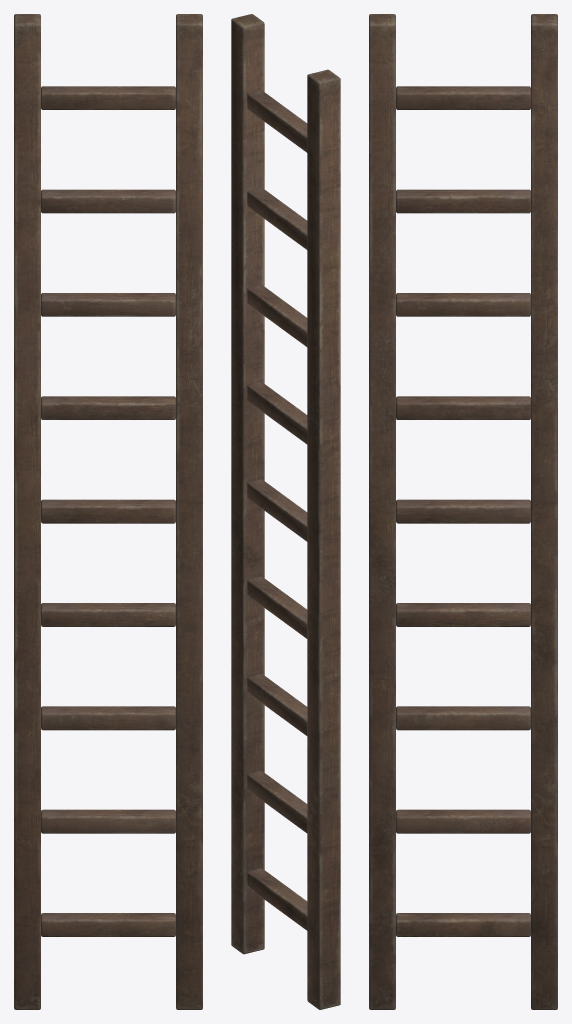
The model's file is ladder.glb.
3 views of the same model, side by side, from view 1: azimuth 90°, elevation 25°; view 2: azimuth 210°, elevation 25°; view 3: azimuth 270°, elevation 25° (orthographic). The views are drawn at different scales.
Parts seen in each view (by area): view 1: Wooden Ladder; view 2: Wooden Ladder; view 3: Wooden Ladder.
Part boxes in pixels (x1=…): Wooden Ladder: x1=14, y1=14, x2=202, y2=1009; Wooden Ladder: x1=231, y1=14, x2=340, y2=1009; Wooden Ladder: x1=369, y1=14, x2=557, y2=1009.
Bounding box in the file's own units: 1.11 × 44.75 × 7.77.
Materials: 1 (1 with a texture image).
